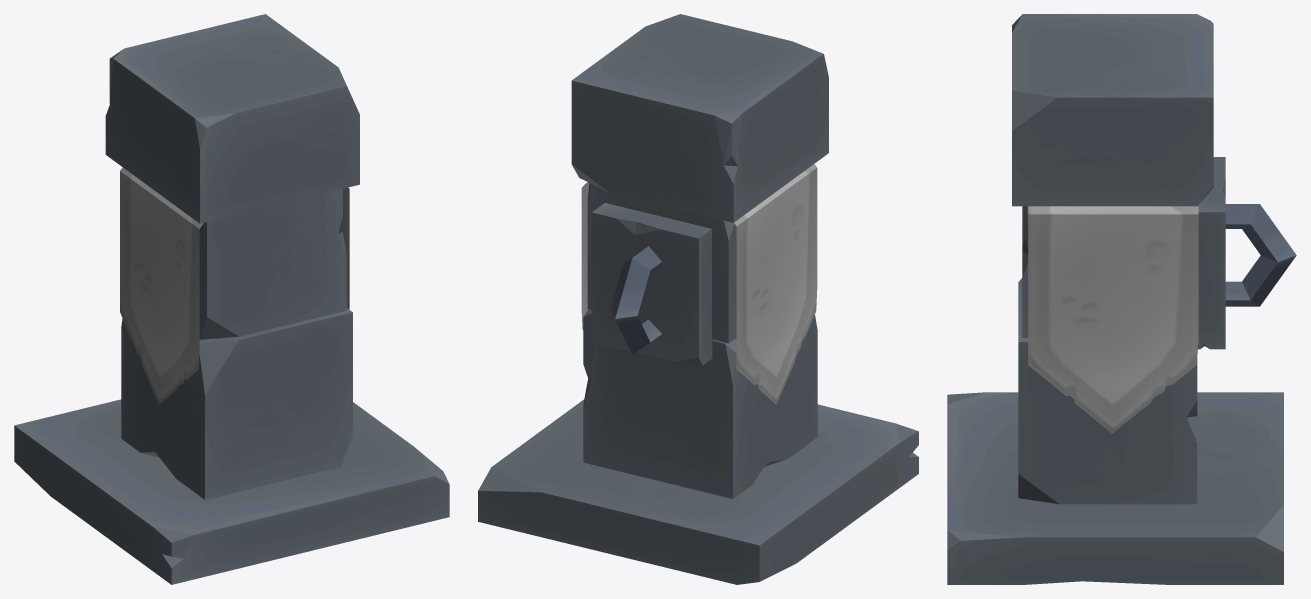
File: Pillar1B-003_02_11_2884.fbx
3 renders of one model, left to right at view 1: azimuth 30°, elevation 25°; view 2: azimuth 150°, elevation 25°; view 3: azimuth 270°, elevation 25°, orthographic. The views are drawn at different scales.
Visible parts, largest first — view 1: 1B_Pillar, Plane_001 (2), Plane_001 (1); view 2: 1B_Pillar, Plane_001 (2), ChainLink, Plane_001 (1); view 3: 1B_Pillar, Plane_001 (1), ChainLink.
Boxes of the visible parts, left/top/right/bottom form: 1B_Pillar: left=14, top=14, right=449, bottom=584; Plane_001 (2): left=120, top=167, right=203, bottom=404; Plane_001 (1): left=343, top=187, right=349, bottom=309; 1B_Pillar: left=478, top=14, right=918, bottom=584; Plane_001 (2): left=734, top=164, right=817, bottom=404; ChainLink: left=610, top=246, right=661, bottom=354; Plane_001 (1): left=581, top=182, right=589, bottom=330; 1B_Pillar: left=947, top=14, right=1283, bottom=584; Plane_001 (1): left=1028, top=206, right=1198, bottom=433; ChainLink: left=1225, top=204, right=1296, bottom=306.
Size of the model in its own units: 1.88 by 2.76 by 1.92.
